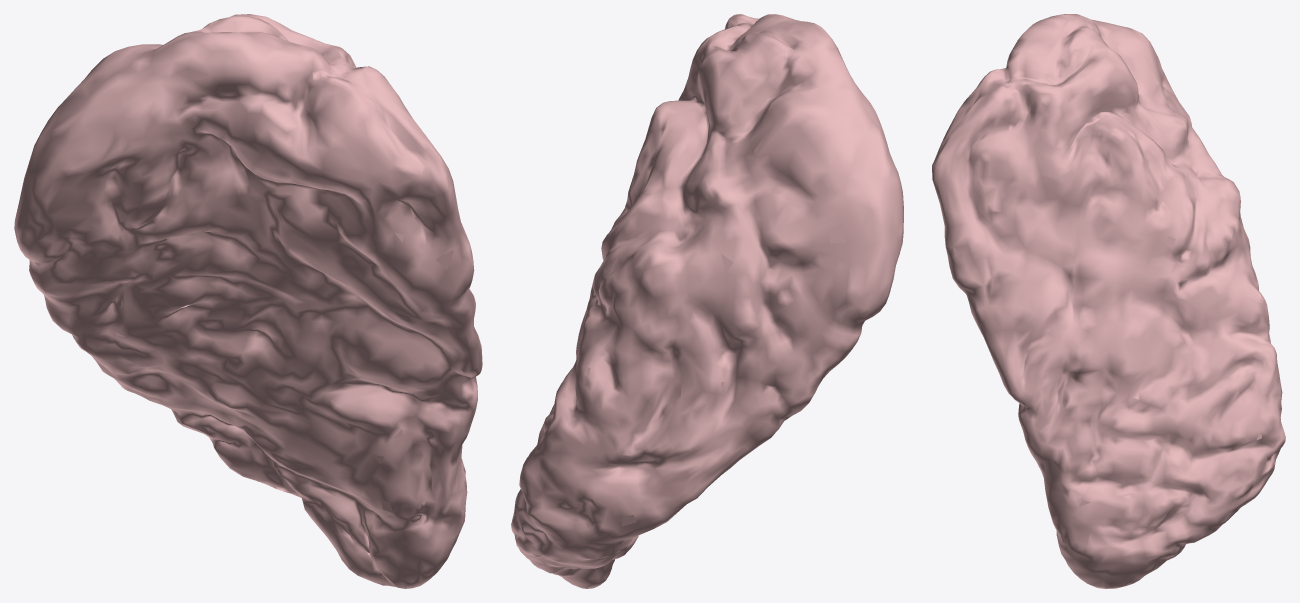
The model's file is 3d-vh-m-palatine-tonsil-l-80.glb.
The picture shows the model from 3 angles, left to right: view 1: azimuth 30°, elevation 25°; view 2: azimuth 150°, elevation 25°; view 3: azimuth 270°, elevation 25°; orthographic projection. The views are drawn at different scales.
Parts seen in each view (by area): view 1: VH_M_palatine_tonsil_L; view 2: VH_M_palatine_tonsil_L; view 3: VH_M_palatine_tonsil_L.
Boxes of the visible parts, bbox=[...] form: VH_M_palatine_tonsil_L: bbox=[14, 14, 482, 588]; VH_M_palatine_tonsil_L: bbox=[511, 14, 903, 588]; VH_M_palatine_tonsil_L: bbox=[932, 14, 1285, 588].
Bounding box in the file's own units: 0.0163 × 0.0243 × 0.0159.
